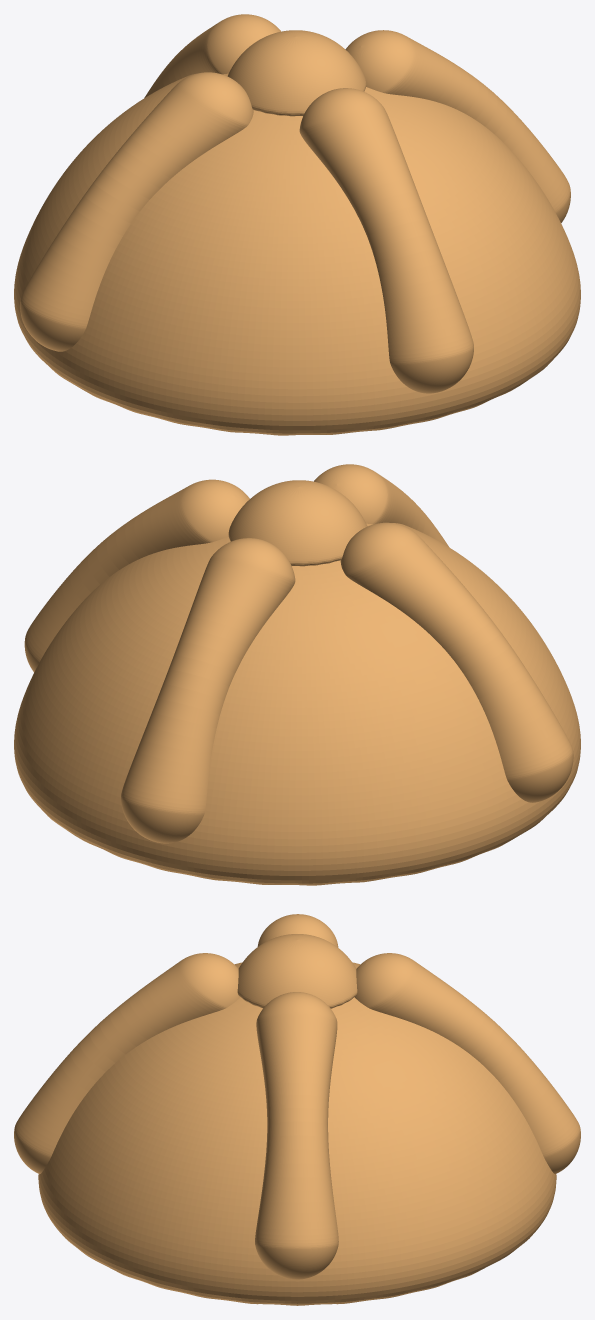
Rendered from PanDeMuerto.fbx.
3 views of the same model, one above another, from view 1: azimuth 30°, elevation 25°; view 2: azimuth 150°, elevation 25°; view 3: azimuth 270°, elevation 25° (orthographic). The views are drawn at different scales.
Parts seen in each view (by area): view 1: Base, Huesito.001, Huesito.002, Huesito.003, Tapa, Huesito; view 2: Base, Huesito, Huesito.002, Huesito.003, Tapa, Huesito.001; view 3: Base, Huesito.003, Huesito.001, Huesito, Tapa, Huesito.002.
Boxes of the visible parts, box(x1,y1,x2,y2) form: Base: box(14, 73, 580, 435); Huesito.001: box(299, 88, 473, 393); Huesito.002: box(20, 72, 253, 351); Huesito.003: box(345, 30, 570, 222); Tapa: box(227, 30, 366, 116); Huesito: box(144, 14, 280, 97); Base: box(14, 523, 580, 885); Huesito: box(121, 538, 295, 843); Huesito.002: box(340, 522, 573, 802); Huesito.003: box(24, 479, 249, 672); Tapa: box(228, 480, 367, 566); Huesito.001: box(314, 464, 449, 547); Base: box(38, 962, 556, 1305); Huesito.003: box(255, 992, 338, 1279); Huesito.001: box(14, 953, 240, 1174); Huesito: box(354, 953, 580, 1174); Tapa: box(237, 934, 357, 1008); Huesito.002: box(257, 914, 338, 947).
Bounding box in the file's own units: 208 × 113 × 208.
